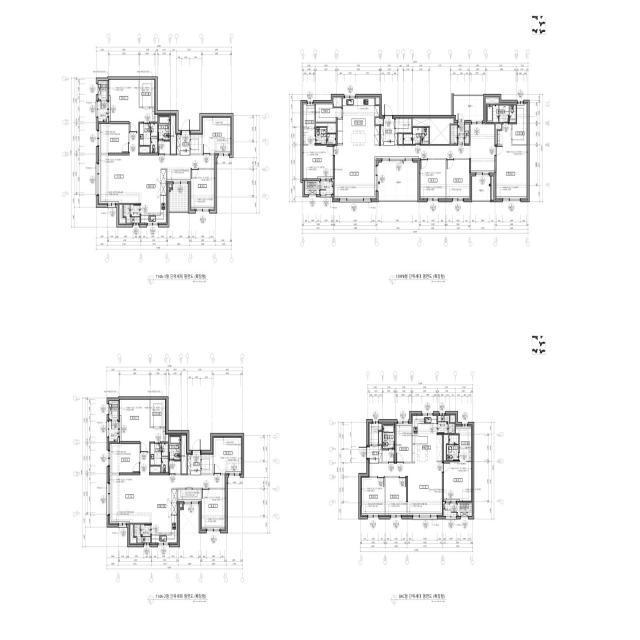space_balconi: (378, 162, 418, 200), (454, 97, 483, 120), (169, 186, 188, 211), (472, 176, 490, 200), (451, 124, 469, 144), (134, 525, 151, 543), (123, 205, 140, 223), (438, 416, 455, 433), (98, 101, 107, 122), (109, 421, 118, 441), (444, 504, 457, 516), (320, 182, 333, 194)
space_bedroom: (109, 80, 154, 132), (120, 400, 165, 452), (496, 124, 527, 198), (303, 128, 333, 179), (444, 462, 471, 501), (214, 437, 242, 473), (203, 117, 231, 153), (420, 160, 445, 198), (202, 490, 226, 529), (191, 170, 215, 209), (446, 160, 469, 198), (362, 478, 385, 515), (110, 444, 139, 473), (99, 124, 128, 153), (386, 478, 406, 515)
space_dressroom: (512, 104, 527, 144), (150, 400, 165, 427), (140, 80, 155, 107), (456, 426, 471, 447), (303, 104, 315, 128)
space_front: (381, 116, 398, 146), (188, 453, 201, 475), (177, 135, 190, 155), (370, 446, 382, 463)
space_kitchen: (337, 98, 379, 146), (412, 416, 442, 462), (152, 489, 177, 543), (141, 169, 166, 223)
space_living_room: (335, 124, 495, 198), (110, 453, 226, 523), (99, 133, 215, 203), (370, 462, 442, 515)
space_other: (413, 119, 453, 144), (396, 424, 411, 462), (316, 104, 342, 122), (167, 168, 190, 182), (178, 489, 201, 501), (370, 424, 382, 445), (395, 119, 412, 133), (202, 454, 213, 473), (191, 135, 202, 154), (316, 123, 336, 133), (182, 436, 187, 474), (171, 116, 176, 154), (169, 461, 181, 474), (158, 142, 170, 154), (460, 448, 471, 461), (383, 450, 394, 462), (119, 205, 125, 224), (130, 525, 136, 543), (444, 435, 448, 461), (496, 124, 501, 144), (486, 98, 499, 104), (334, 98, 342, 107), (491, 176, 494, 200), (376, 118, 383, 124), (399, 134, 403, 144), (379, 432, 382, 444), (450, 415, 455, 422), (376, 98, 379, 105), (166, 434, 168, 442), (155, 114, 157, 122), (169, 184, 171, 188), (180, 504, 182, 507)
space_outdoor_room: (305, 181, 319, 195), (458, 503, 472, 516), (98, 81, 107, 100), (109, 401, 118, 419)
space_toilet: (150, 443, 168, 473), (139, 124, 157, 153), (487, 105, 516, 122), (404, 128, 429, 144), (316, 128, 336, 144), (169, 436, 181, 461), (158, 116, 170, 140), (447, 435, 458, 460), (383, 425, 394, 449)
